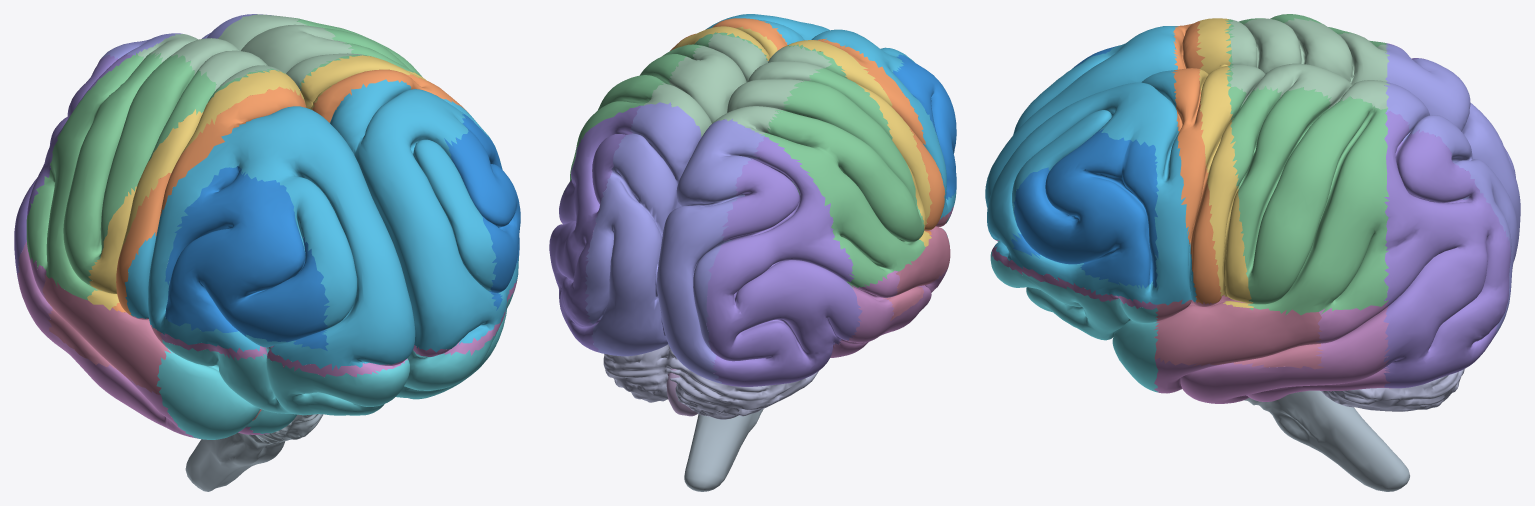
Rendered from cortex-brain-v5-mobile.glb.
3 views of the same model, side by side, from view 1: azimuth 30°, elevation 25°; view 2: azimuth 150°, elevation 25°; view 3: azimuth 270°, elevation 25° (orthographic). The views are drawn at different scales.
Visible parts, largest first — view 1: Cortex_frontal_L, Cortex_frontal_R, Cortex_parietal_L, Cortex_dlpfc_L, Cortex_ofc_L, Cortex_auditory_L, Cortex_somatosensory_L, Cortex_temporal_L, Cortex_dlpfc_R, Cortex_motor_L, Cortex_precuneus_R, Brainstem (+8 smaller); view 2: Cortex_occipital_L, Cortex_parietal_L, Cortex_visual_R, Cortex_visual_L, Cortex_occipital_R, Cerebellar_hemispheres, Cortex_precuneus_R, Cortex_precuneus_L, Cortex_somatosensory_L, Brainstem, Cortex_temporal_L, Cortex_parietal_R (+8 smaller); view 3: Cortex_parietal_R, Cortex_occipital_R, Cortex_frontal_R, Cortex_dlpfc_R, Cortex_temporal_R, Cortex_auditory_R, Brainstem, Cortex_somatosensory_R, Cortex_precuneus_L, Cortex_frontal_L, Cortex_ofc_R, Cortex_visual_L (+7 smaller).
Boxes of the visible parts, x1=… form: Cortex_frontal_L: x1=124, y1=106, x2=415, y2=370; Cortex_frontal_R: x1=330, y1=79, x2=519, y2=352; Cortex_parietal_L: x1=26, y1=52, x2=286, y2=300; Cortex_dlpfc_L: x1=164, y1=166, x2=329, y2=350; Cortex_ofc_L: x1=156, y1=339, x2=409, y2=439; Cortex_auditory_L: x1=42, y1=274, x2=173, y2=394; Cortex_somatosensory_L: x1=87, y1=70, x2=305, y2=310; Cortex_temporal_L: x1=17, y1=241, x2=407, y2=438; Cortex_dlpfc_R: x1=444, y1=112, x2=520, y2=310; Cortex_motor_L: x1=112, y1=86, x2=306, y2=316; Cortex_precuneus_R: x1=218, y1=14, x2=365, y2=90; Brainstem: x1=185, y1=414, x2=323, y2=491; Cortex_occipital_L: x1=706, y1=136, x2=862, y2=386; Cortex_parietal_L: x1=760, y1=44, x2=925, y2=288; Cortex_visual_R: x1=585, y1=102, x2=701, y2=356; Cortex_visual_L: x1=655, y1=119, x2=764, y2=384; Cortex_occipital_R: x1=549, y1=105, x2=640, y2=352; Cerebellar_hemispheres: x1=603, y1=344, x2=818, y2=419; Cortex_precuneus_R: x1=644, y1=33, x2=768, y2=136; Cortex_precuneus_L: x1=709, y1=45, x2=831, y2=134; Cortex_somatosensory_L: x1=783, y1=40, x2=932, y2=246; Brainstem: x1=684, y1=409, x2=763, y2=491; Cortex_temporal_L: x1=830, y1=206, x2=953, y2=357; Cortex_parietal_R: x1=562, y1=32, x2=767, y2=195; Cortex_parietal_R: x1=1225, y1=65, x2=1389, y2=315; Cortex_occipital_R: x1=1383, y1=111, x2=1511, y2=388; Cortex_frontal_R: x1=987, y1=70, x2=1196, y2=305; Cortex_dlpfc_R: x1=1011, y1=127, x2=1158, y2=288; Cortex_temporal_R: x1=991, y1=240, x2=1391, y2=403; Cortex_auditory_R: x1=1154, y1=295, x2=1323, y2=369; Brainstem: x1=1244, y1=390, x2=1409, y2=491; Cortex_somatosensory_R: x1=1199, y1=64, x2=1253, y2=307; Cortex_precuneus_L: x1=1228, y1=18, x2=1389, y2=85; Cortex_frontal_L: x1=985, y1=26, x2=1178, y2=207; Cortex_ofc_R: x1=990, y1=251, x2=1158, y2=392; Cortex_visual_L: x1=1384, y1=44, x2=1520, y2=262.
Bounding box in the file's own units: 5.07 × 5.87 × 6.39.
